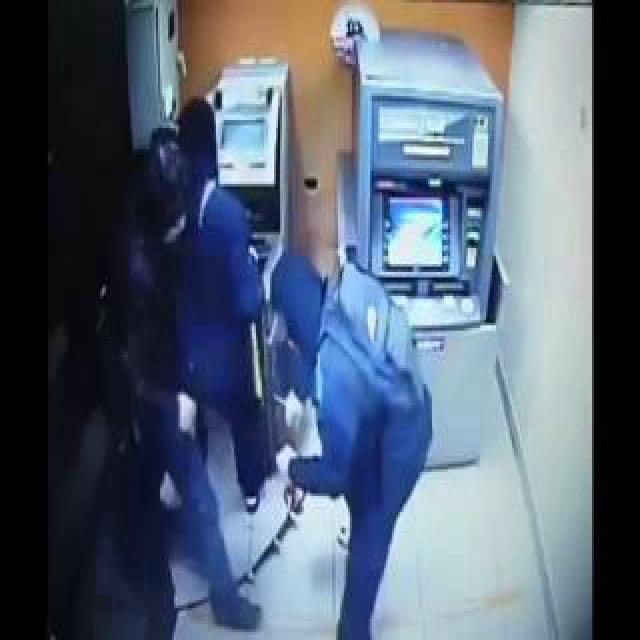burglary: (93, 72, 474, 623)
